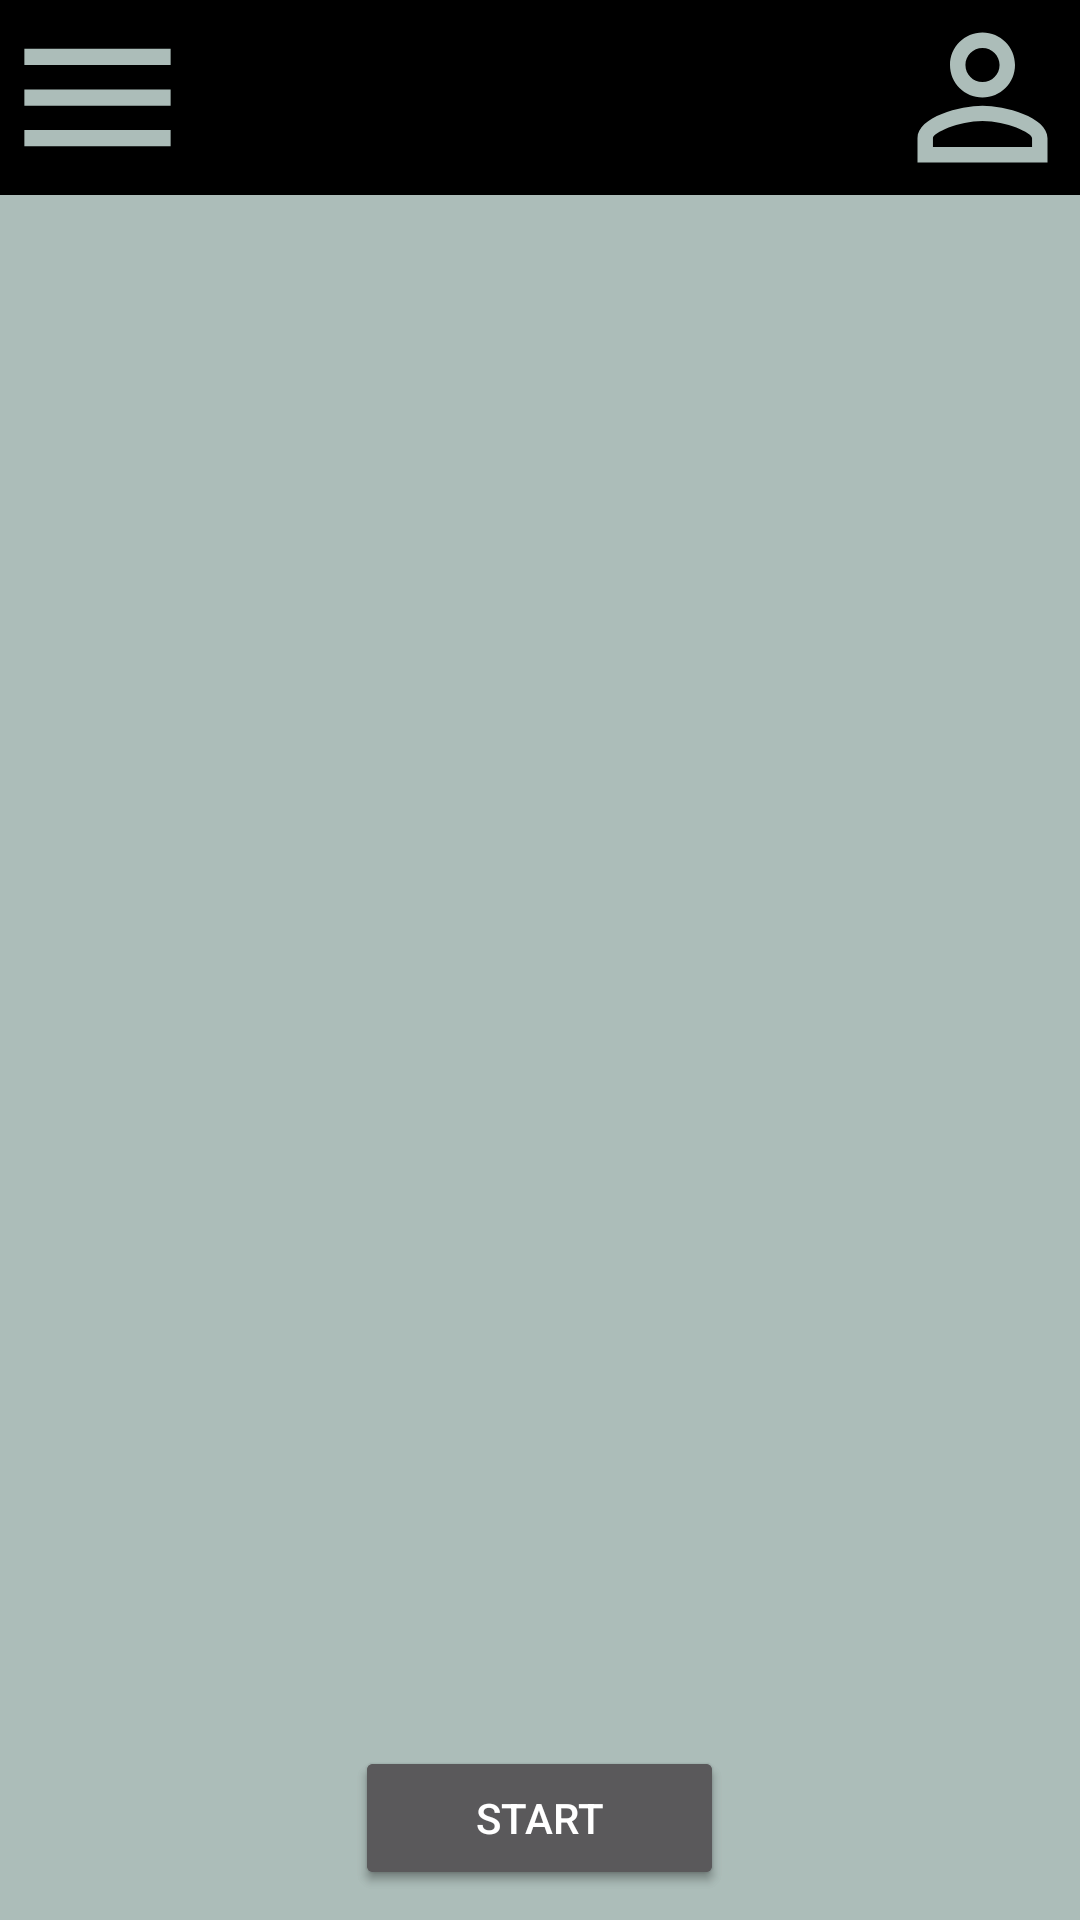

Screen size 1080 × 1920. Icon name, then its center in pixels as (x,y):
menu: (97,97)
person: (982,97)
